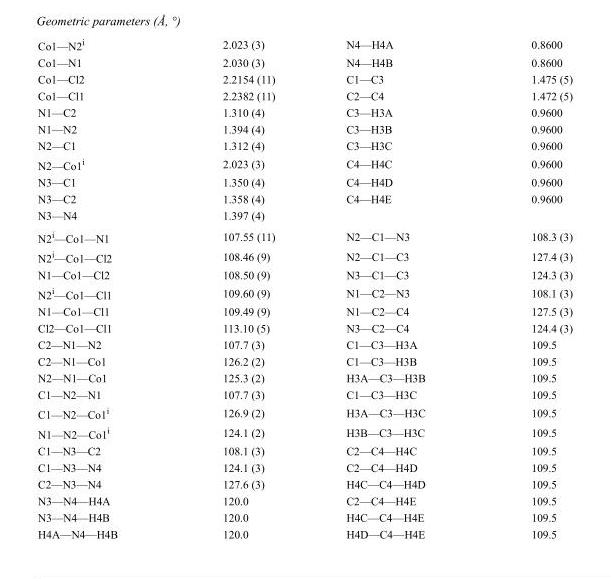table: (37, 36, 572, 539)
table column: (310, 36, 477, 539), (169, 36, 310, 539), (37, 36, 169, 539), (477, 36, 572, 539)
table row: (37, 225, 572, 246), (37, 153, 572, 173), (37, 246, 572, 266), (37, 282, 572, 302), (37, 402, 572, 422), (37, 422, 572, 442), (37, 206, 572, 225), (37, 36, 572, 53), (37, 53, 572, 70), (37, 70, 572, 87), (37, 103, 572, 120), (37, 136, 572, 153), (37, 173, 572, 190), (37, 302, 572, 319), (37, 335, 572, 352), (37, 352, 572, 369), (37, 385, 572, 402), (37, 458, 572, 475), (37, 475, 572, 492), (37, 508, 572, 525), (37, 87, 572, 103), (37, 120, 572, 136), (37, 190, 572, 206), (37, 266, 572, 282), (37, 319, 572, 335), (37, 369, 572, 385), (37, 442, 572, 458), (37, 492, 572, 508), (37, 525, 572, 539)
